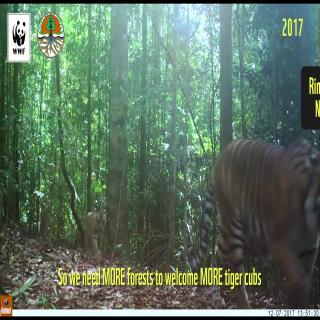Tiger: (199, 133, 320, 266), (82, 205, 109, 260)
